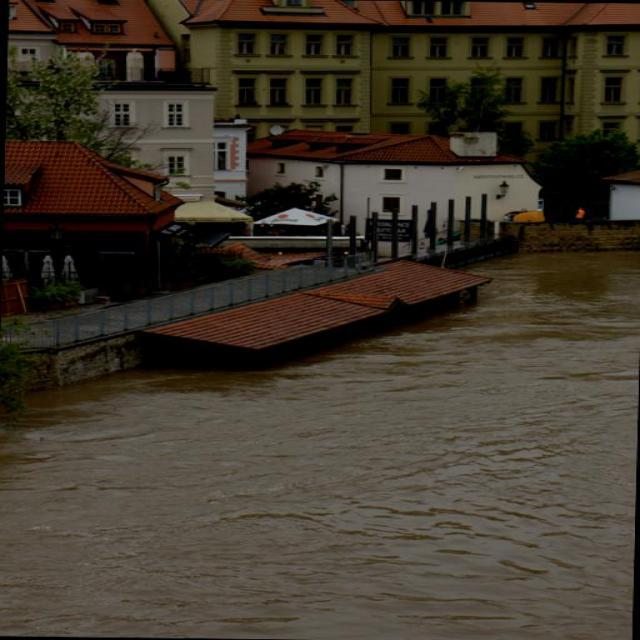flood: (0, 241, 639, 639)
